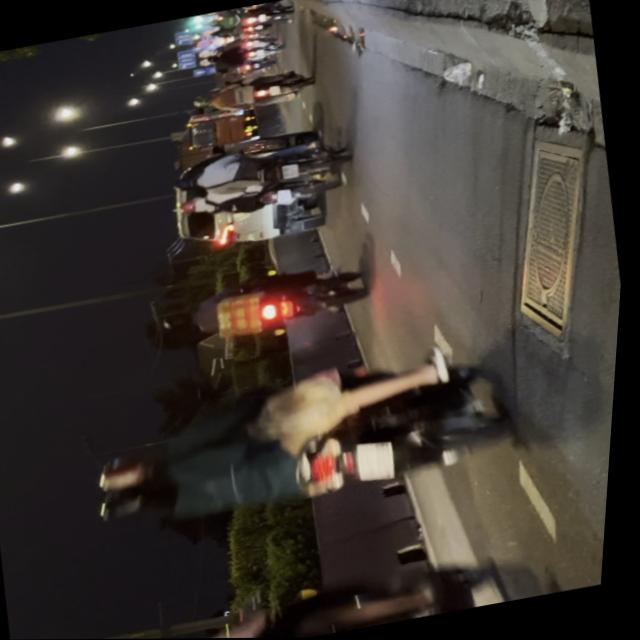helmet: (96, 478, 178, 530), (96, 447, 175, 498)
licenseplate: (77, 330, 536, 548), (73, 528, 590, 639)
nohelmet: (357, 440, 402, 485)
